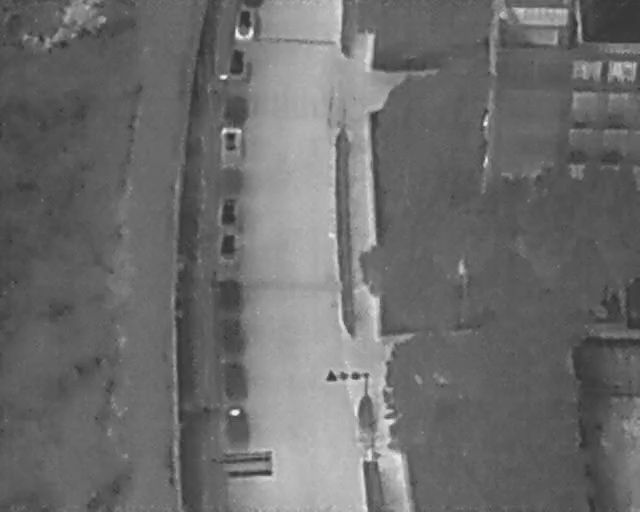Car: (220, 197, 237, 228), (228, 47, 246, 75), (235, 8, 252, 37), (221, 232, 235, 260), (223, 130, 238, 152)
